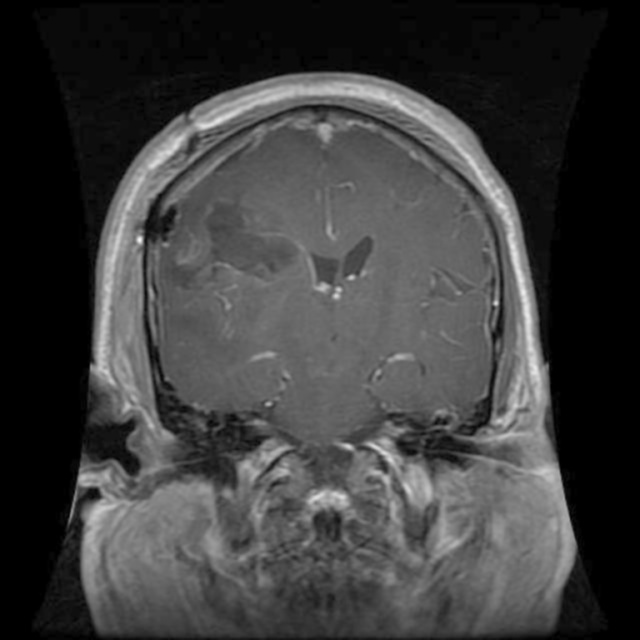pituitary tumor: (212, 208, 298, 282)
